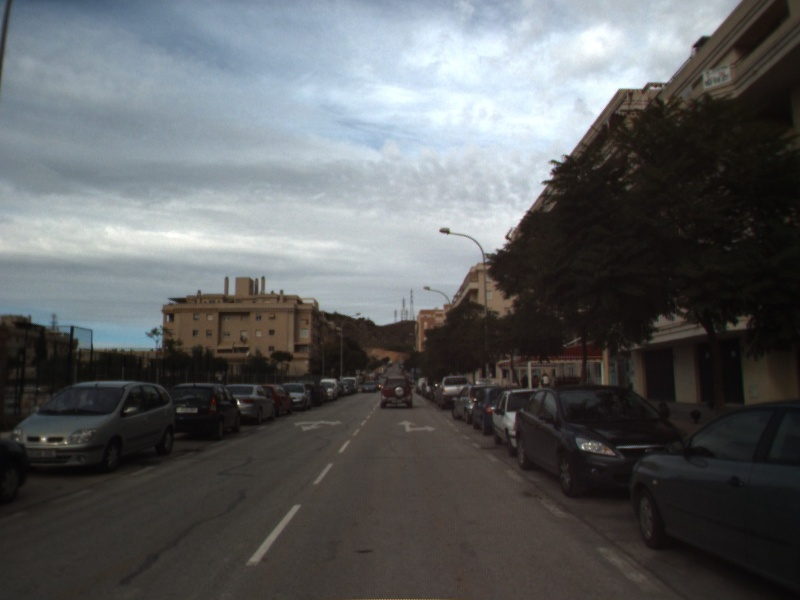STRAIGHT_RIGHT: (395, 418, 438, 434)
